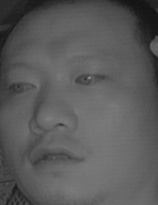eye: (73, 67, 108, 90), (7, 76, 41, 97)
mouth: (24, 137, 85, 171)
